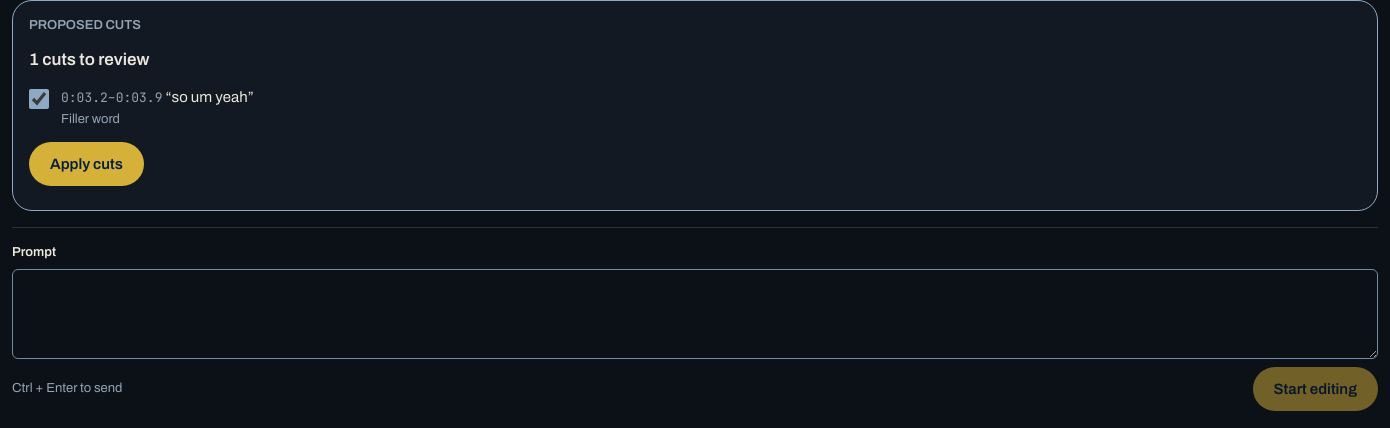
Test: AgentPane › sends the cut decisions to the cut-candidates route the reviewer waits on
This screenshot has width=1390, height=428.
expect the text "0:03.2–0:03.9" is shown: met, box [61, 89, 162, 106]
Click the button "Apply cuts".
click(86, 164)  # box [29, 142, 144, 186]
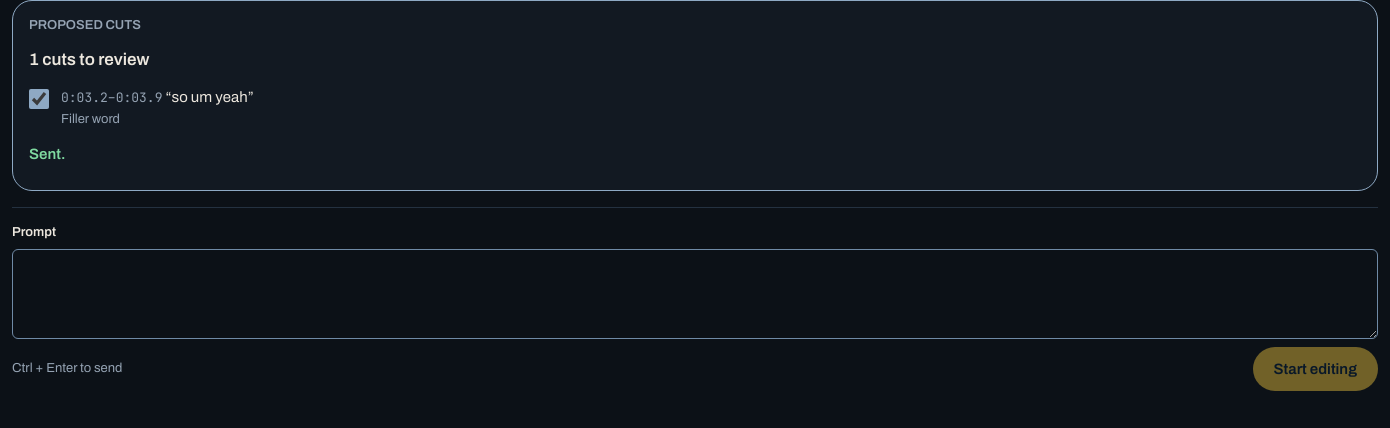
expect the text "Sent." is shown: met, box [29, 146, 65, 162]
